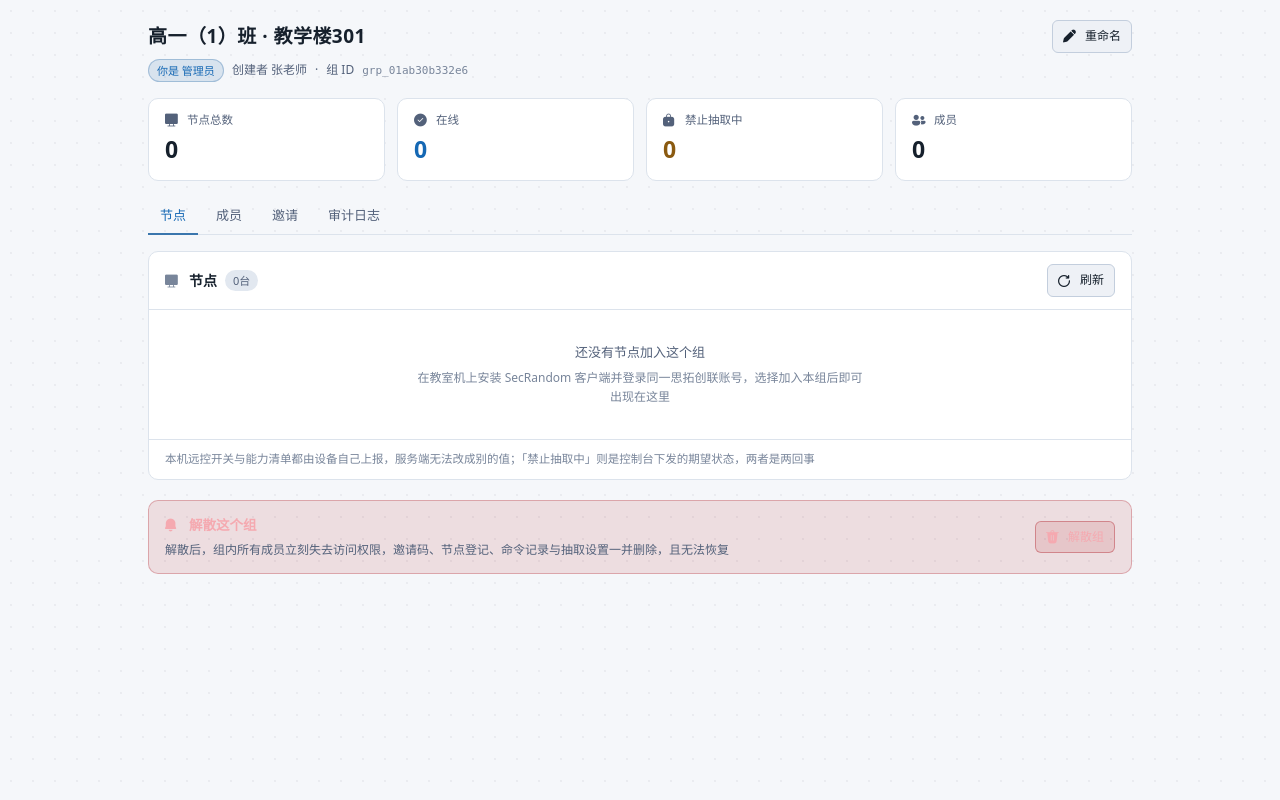
Test case: GroupDetailView 解散组 › 组记录说我是创建者、成员角色却不是 owner 时，服务端拒绝的文案要显示出来
The width and height of the screenshot is (1280, 800).
Click the button with test id "group-delete-open".
click(1075, 537)  # box left=1035, top=521, right=1115, bottom=553
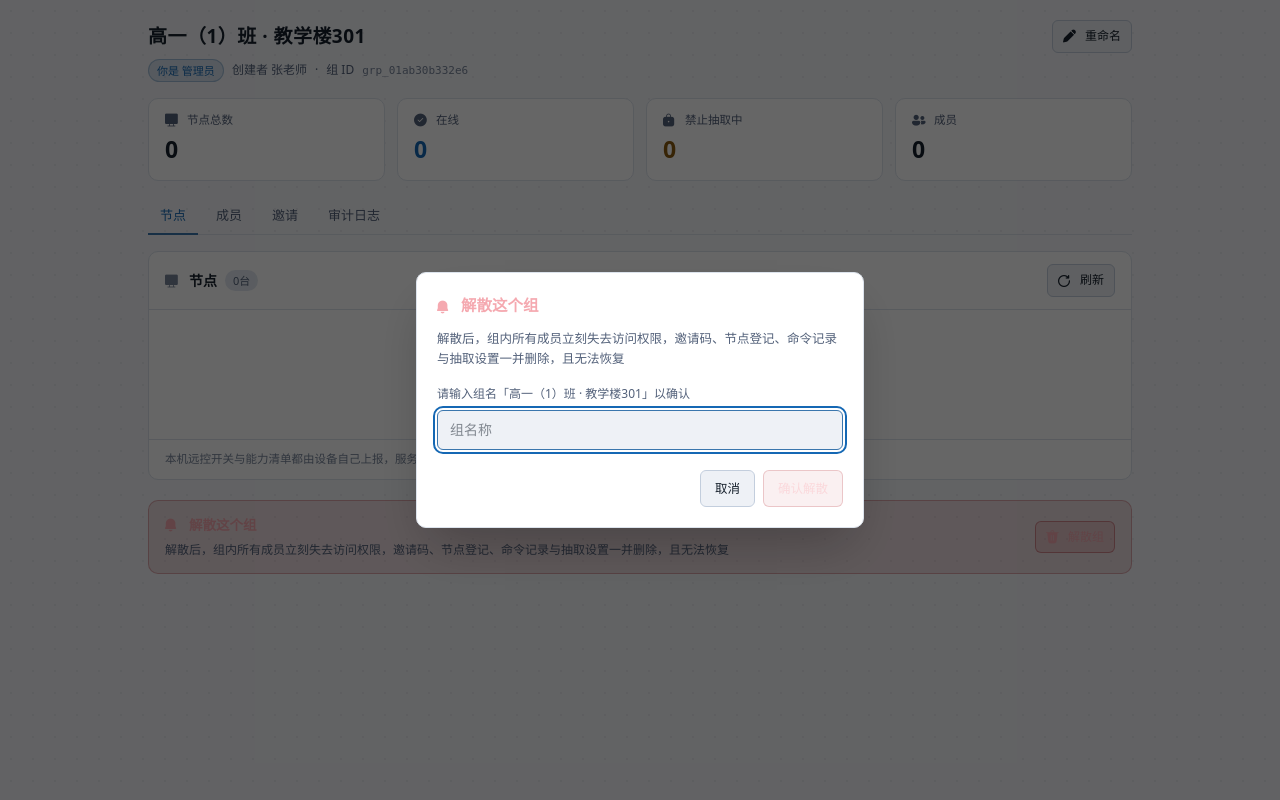
Type "高一（1）班 · 教学楼301" into the field with test id "delete-confirm-name".
click(640, 430); type("高一（1）班 · 教学楼301")  # box left=437, top=410, right=843, bottom=450
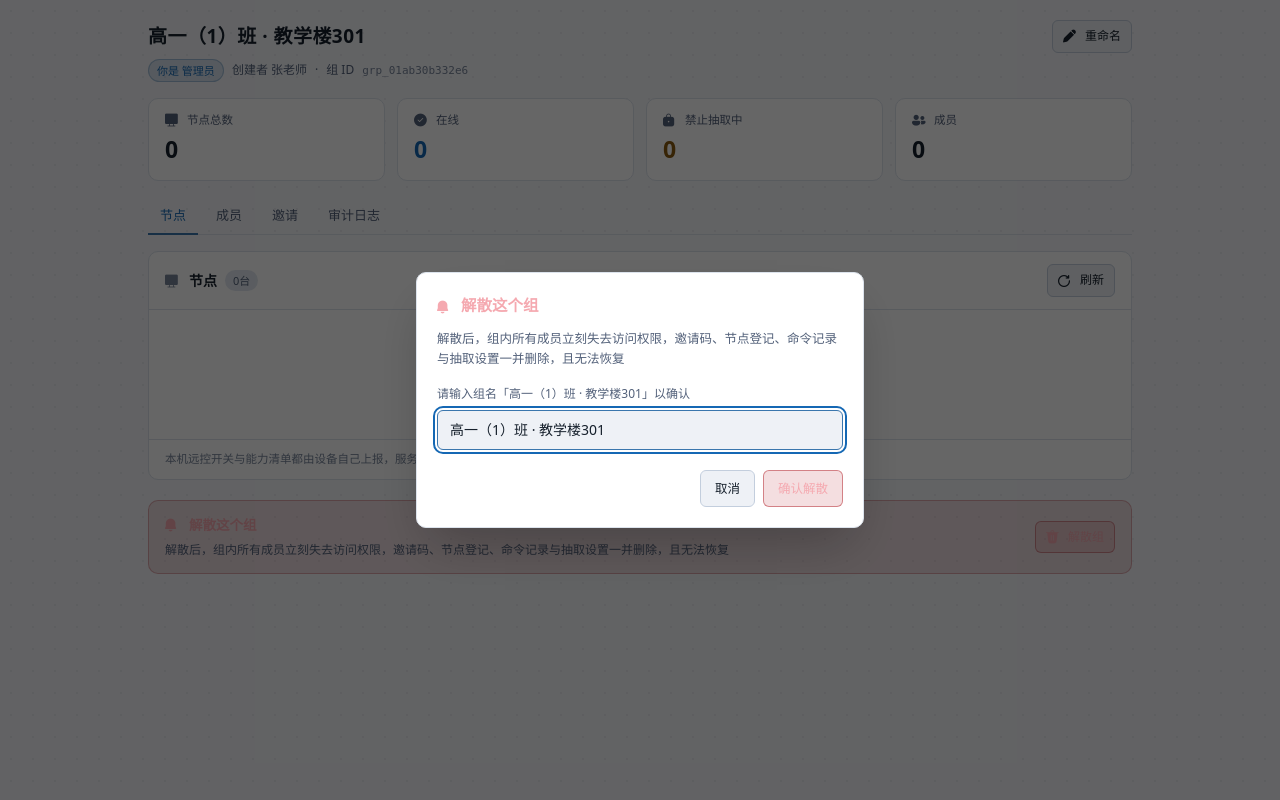
Submit the form, box left=416, top=272, right=864, bottom=528
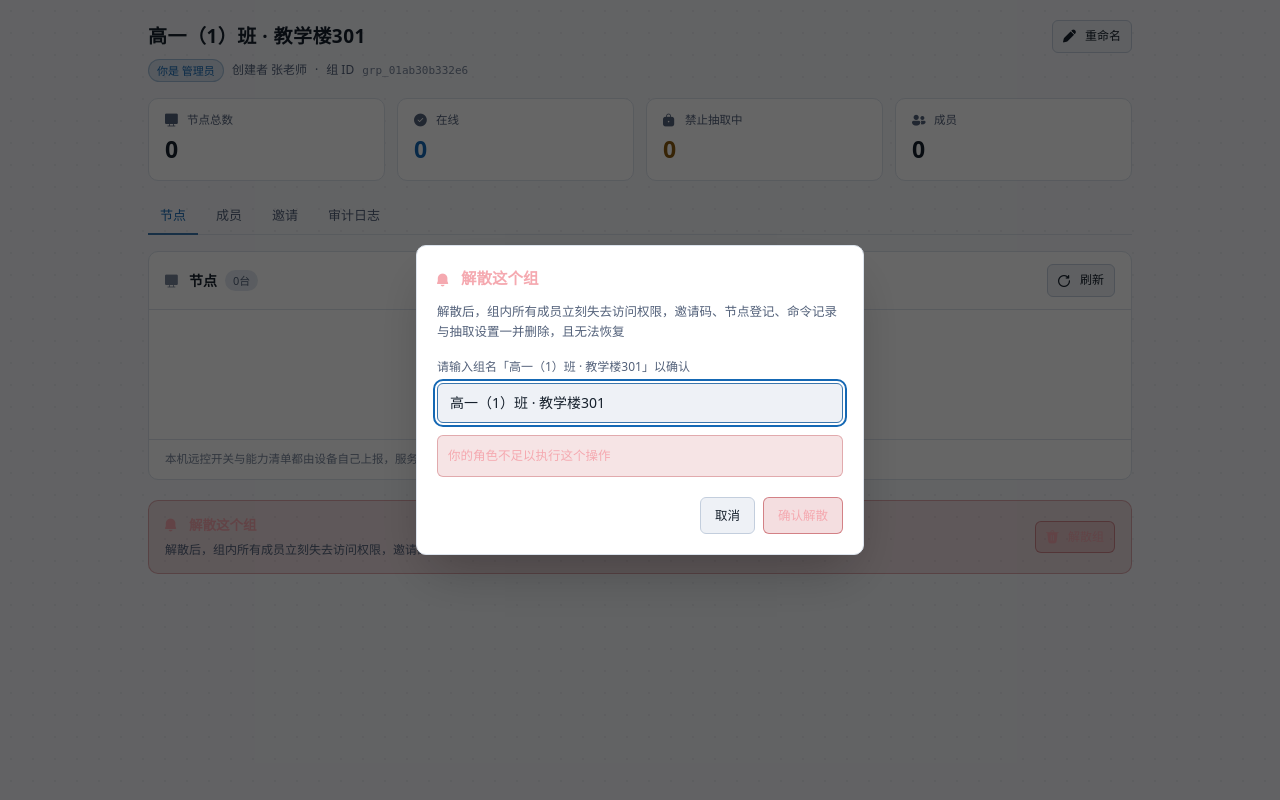
Check: the dialog with test id "delete-dialog" is shown
Check: the text with test id "delete-error" shows "角色不足", box left=448, top=447, right=610, bottom=464
